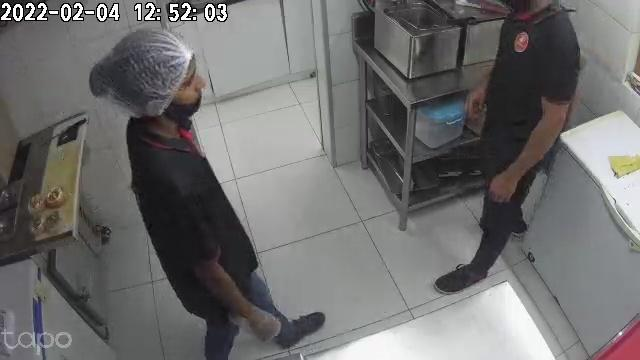no_gloves: (490, 163, 520, 204)
